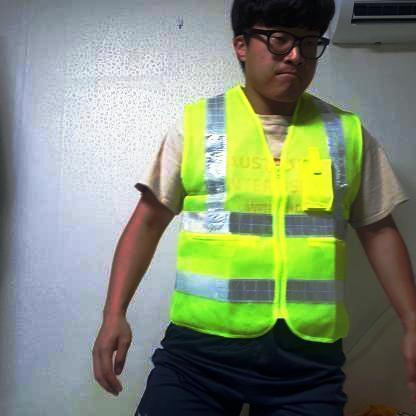no-helmet: (229, 0, 332, 50)
vest: (171, 87, 365, 345)
